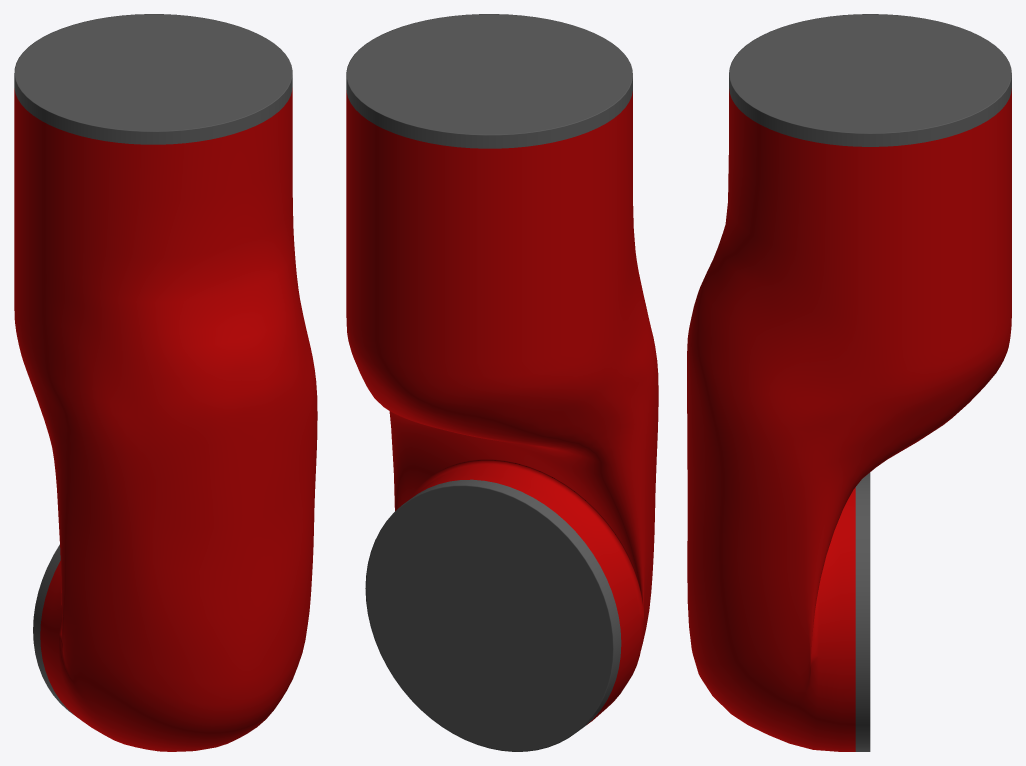
3 views of the same model, side by side, from view 1: azimuth 30°, elevation 25°; view 2: azimuth 150°, elevation 25°; view 3: azimuth 270°, elevation 25° (orthographic). The views are drawn at different scales.
Visible parts, largest first — view 1: Link04; view 2: Link04; view 3: Link04.
Boxes of the visible parts, <box> form: Link04: <box>14,14,317,751</box>; Link04: <box>346,14,658,751</box>; Link04: <box>687,14,1011,751</box>.
Size of the model in its own units: 0.0955 by 0.1097 by 0.2478.
